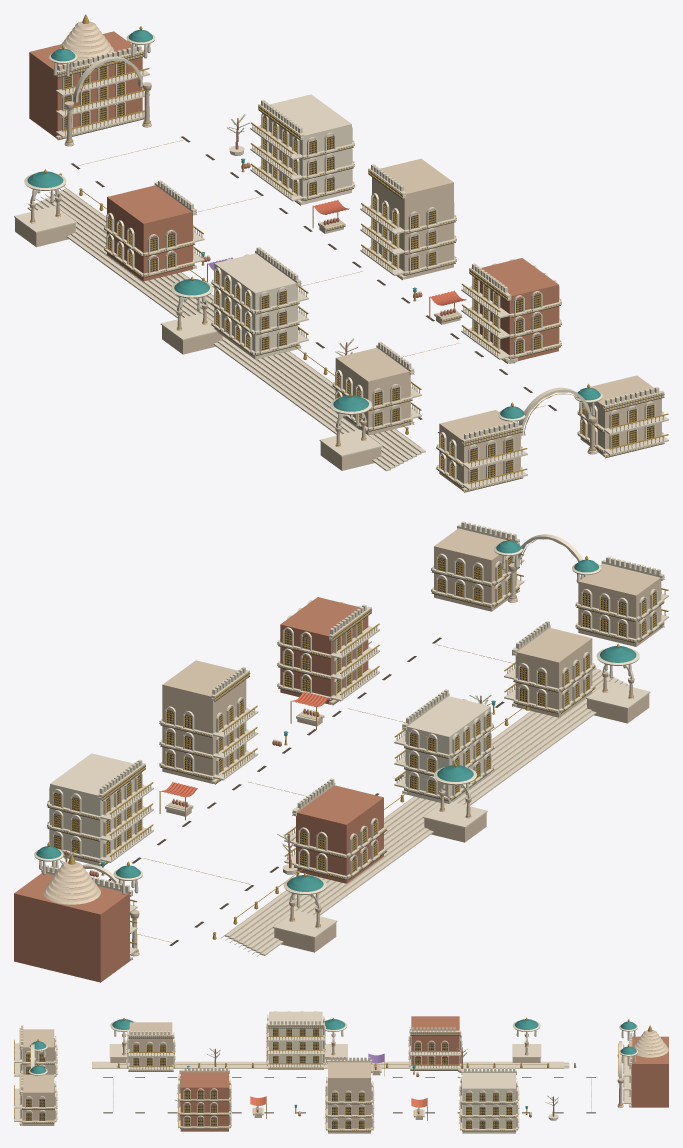
The model's file is kashi-riverfront-v1.glb.
The picture shows the model from 3 angles, top to bottom: view 1: azimuth 30°, elevation 25°; view 2: azimuth 150°, elevation 25°; view 3: azimuth 270°, elevation 25°; orthographic projection. The views are drawn at different scales.
Parts seen in each view (by area): view 1: Kashi_Mission1_Riverfront_v1; view 2: Kashi_Mission1_Riverfront_v1; view 3: Kashi_Mission1_Riverfront_v1.
Part boxes in pixels (bbox=[...]): Kashi_Mission1_Riverfront_v1: bbox=[14, 14, 668, 492]; Kashi_Mission1_Riverfront_v1: bbox=[14, 521, 668, 982]; Kashi_Mission1_Riverfront_v1: bbox=[14, 1011, 668, 1133].
Size of the model in its own units: 39.99 by 16.1 by 122.
